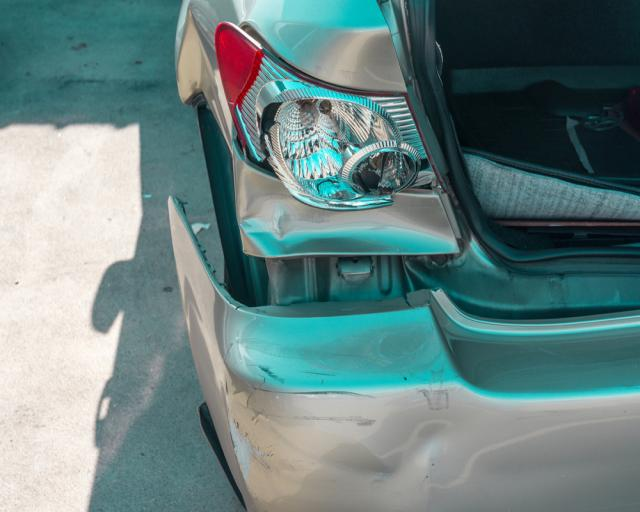crack: (402, 293, 417, 311)
dent: (242, 173, 452, 250), (363, 406, 471, 512)
lamp broken: (213, 21, 445, 212)
scratch: (220, 356, 376, 483)
